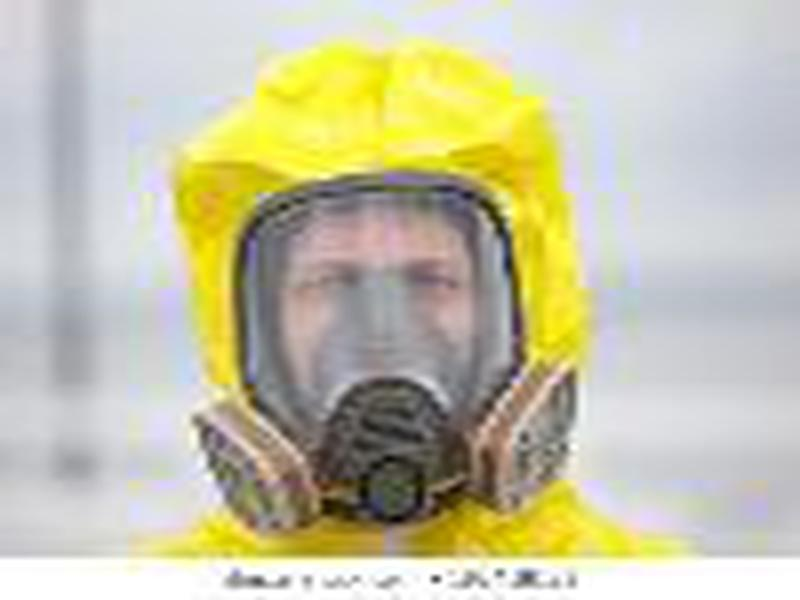with_mask: (190, 50, 585, 539)
